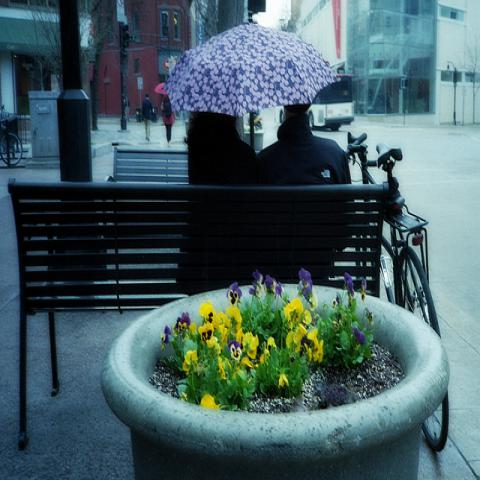bus: (306, 72, 356, 133)
